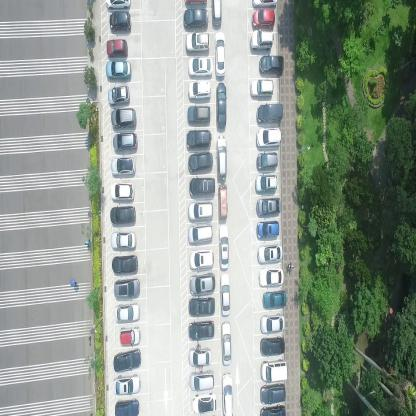car: (113, 347, 142, 374), (188, 270, 216, 294), (113, 374, 142, 397), (191, 390, 217, 415), (188, 294, 216, 316), (260, 359, 288, 381), (189, 247, 213, 272), (256, 102, 284, 123), (214, 29, 226, 77), (112, 130, 137, 153), (186, 150, 212, 172), (111, 107, 137, 129), (111, 230, 137, 252), (114, 278, 140, 300), (114, 302, 140, 324), (187, 223, 213, 245), (187, 200, 213, 222), (188, 318, 214, 340), (221, 372, 234, 416), (185, 31, 210, 53), (187, 55, 212, 77), (257, 242, 282, 264), (260, 310, 285, 332), (260, 334, 286, 355), (260, 383, 286, 404), (111, 254, 138, 274), (107, 84, 130, 107), (216, 80, 227, 128), (110, 180, 135, 201), (257, 126, 282, 147), (189, 176, 215, 196), (260, 54, 286, 74), (110, 205, 136, 225), (216, 132, 227, 179), (221, 319, 232, 366), (219, 270, 230, 316), (251, 76, 274, 98), (251, 7, 275, 28), (186, 80, 210, 101), (262, 287, 286, 308), (250, 29, 274, 50), (190, 369, 214, 390), (183, 8, 208, 28), (111, 156, 136, 176), (188, 346, 213, 366), (218, 223, 229, 268), (106, 61, 132, 80), (186, 129, 212, 148), (186, 104, 210, 124), (258, 266, 283, 285), (114, 398, 140, 416), (120, 324, 141, 346), (109, 11, 132, 31), (258, 219, 280, 239), (257, 196, 281, 214), (257, 151, 279, 170), (106, 39, 128, 57), (256, 174, 278, 192), (218, 183, 228, 220), (259, 403, 286, 415), (212, 0, 222, 26), (105, 0, 131, 9), (251, 0, 278, 8)
